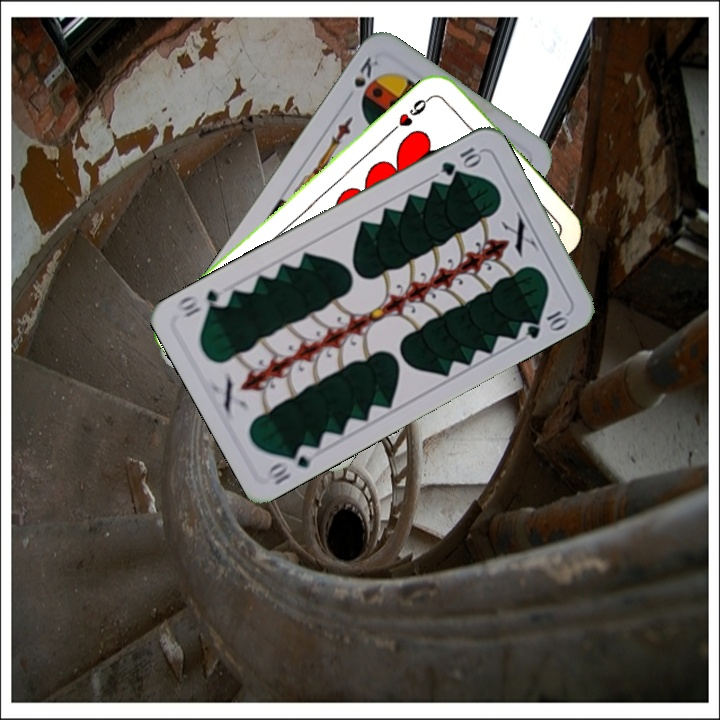G10: (264, 441, 320, 488), (436, 143, 485, 179)
H9: (388, 90, 437, 134)
SK: (350, 52, 382, 90)
